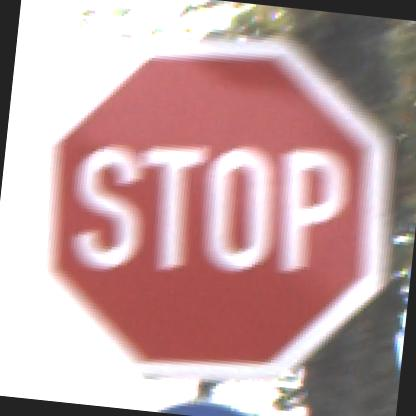stop: (13, 14, 415, 405)
